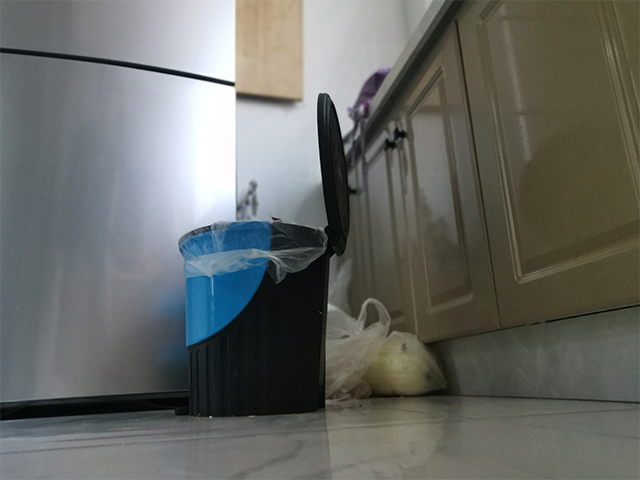cabinet: (332, 1, 639, 403)
trashcan: (172, 91, 352, 419)
